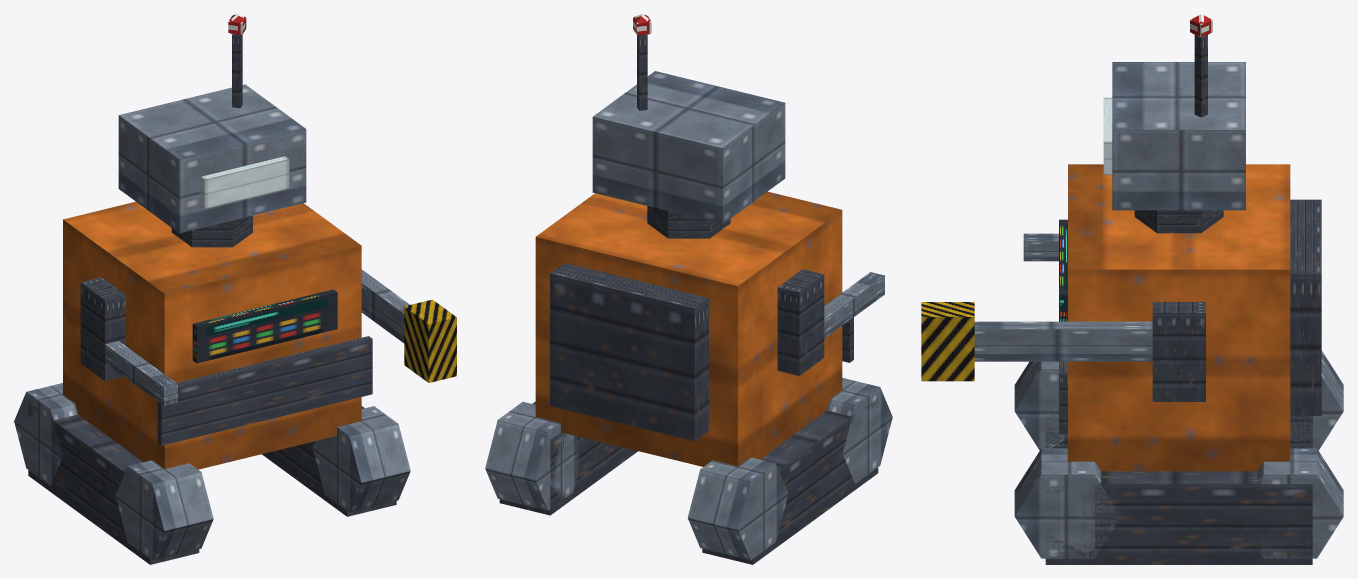
The model's file is maintenance_robot.fbx.
3 renders of one model, left to right at view 1: azimuth 30°, elevation 25°; view 2: azimuth 150°, elevation 25°; view 3: azimuth 270°, elevation 25°, orthographic. The views are drawn at different scales.
Visible parts, largest first — view 1: maintenance_robot; view 2: maintenance_robot; view 3: maintenance_robot.
Boxes of the visible parts, <box> form: maintenance_robot: <box>14,14,456,564</box>; maintenance_robot: <box>485,14,892,564</box>; maintenance_robot: <box>921,14,1343,564</box>.
Size of the model in its own units: 0.71 by 1.25 by 0.95.
Materials: 1 (1 with a texture image).
